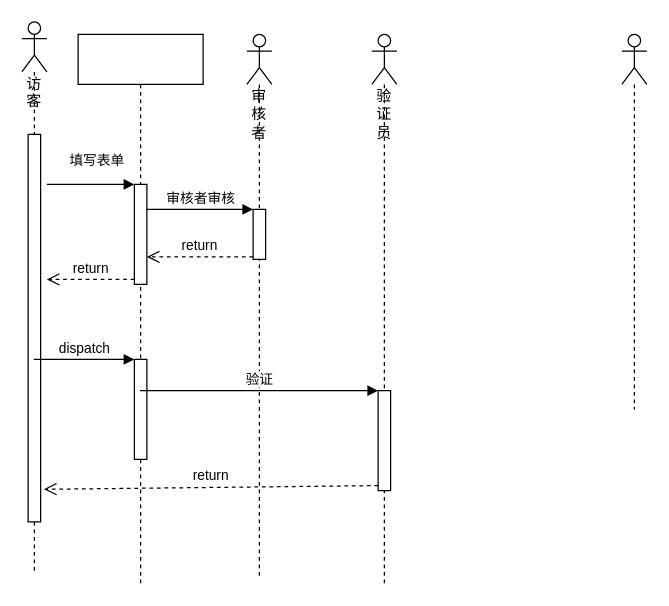
Some shapes in this 669 by 606 pixel diagram are drawn without their labels. The shapes that lost their labels are listed below. From the top down, each one's box as (x1, y1, x2, y2) in pixels, then its label:
(621, 33, 647, 409): 管理员
(77, 33, 203, 584): 小程序:Object
